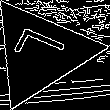L_SE: (8, 28, 73, 77)
